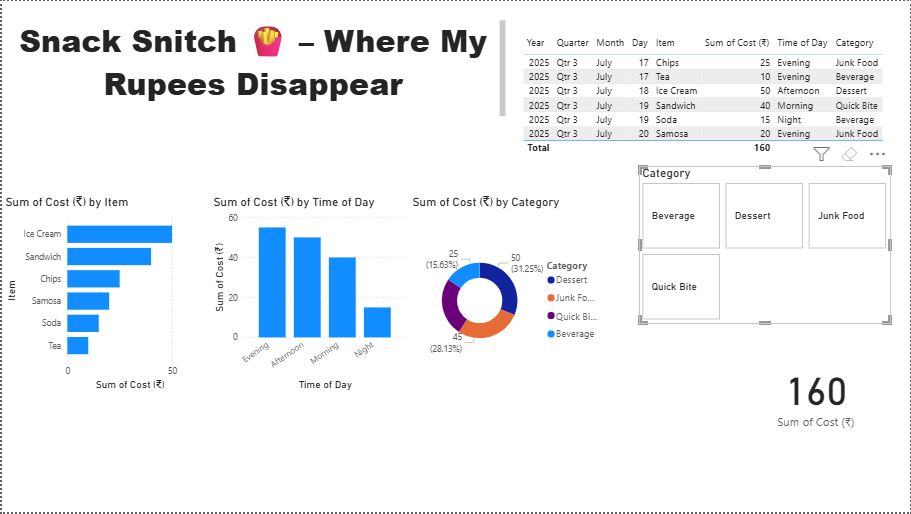

This screenshot's page, from the dashboard's own definition file:
{"tool":"powerbi","page":{"name":"Page 1","canvas":[1280,720],"ordinal":0},"visuals":[{"type":"barChart","fields":{"Y":["Sum(Sheet1.Cost (₹))"],"Category":["Sheet1.Item"]},"box":[0,272.2,281,281],"z":0},{"type":"clusteredColumnChart","fields":{"Category":["Sheet1.Time of Day"],"Y":["Sum(Sheet1.Cost (₹))"]},"box":[292.7,272.2,281,281],"z":1},{"type":"card","fields":{"Values":["Sum(Sheet1.Cost (₹))"]},"box":[1039,478.5,213.7,149.3],"z":2},{"type":"donutChart","fields":{"Category":["Sheet1.Category"],"Y":["Sum(Sheet1.Cost (₹))"]},"box":[573.7,272.2,281,281],"z":3},{"type":"tableEx","fields":{"Values":["Sheet1.Date.Variation.Date Hierarchy.Year","Sheet1.Date.Variation.Date Hierarchy.Quarter","Sheet1.Date.Variation.Date Hierarchy.Month","Sheet1.Date.Variation.Date Hierarchy.Day","Sheet1.Item","Sum(Sheet1.Cost (₹))","Sheet1.Time of Day","Sheet1.Category"]},"box":[728.8,43.9,542.9,182.9],"z":4},{"type":"advancedSlicerVisual","fields":{"Values":["Sheet1.Category"]},"box":[897.1,232.7,355.6,222.4],"z":6},{"type":"textbox","box":[0,20.5,714.1,146.3],"z":7}]}

Visuals, with their boxes in screenshot pixels (x1, y1, x2, y2), scaled from the page's 1280x720 canvas onto the 911x514 screenshot:
barChart - Sum(Sheet1.Cost (₹)) x Sheet1.Item: crop(0, 194, 200, 395)
clusteredColumnChart - Sheet1.Time of Day x Sum(Sheet1.Cost (₹)): crop(208, 194, 408, 395)
card - Sum(Sheet1.Cost (₹)): crop(739, 342, 892, 448)
donutChart - Sheet1.Category x Sum(Sheet1.Cost (₹)): crop(408, 194, 608, 395)
tableEx - Sheet1.Date.Variation.Date Hierarchy.Year x Sheet1.Date.Variation.Date Hierarchy.Quarter: crop(519, 31, 905, 162)
advancedSlicerVisual - Sheet1.Category: crop(638, 166, 892, 325)
textbox: crop(0, 15, 508, 119)
